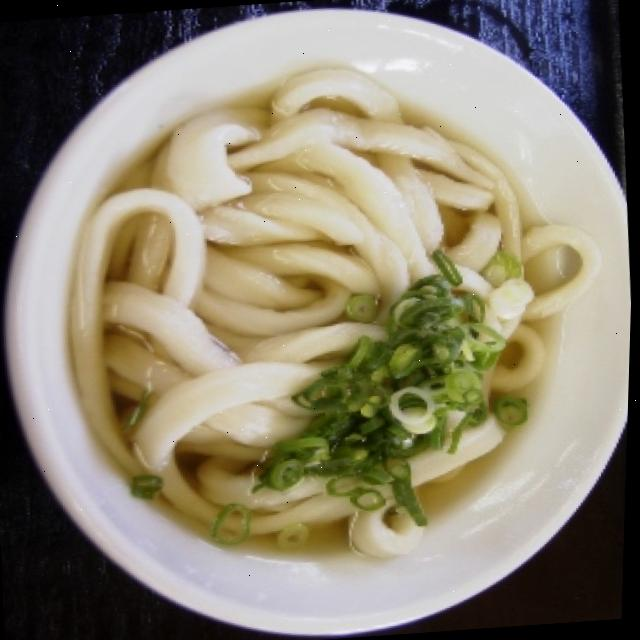面条主食: (4, 1, 640, 622)
